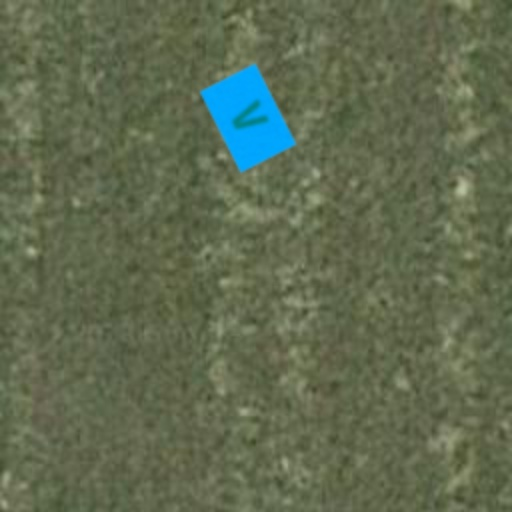rectangle: (186, 56, 310, 180)
